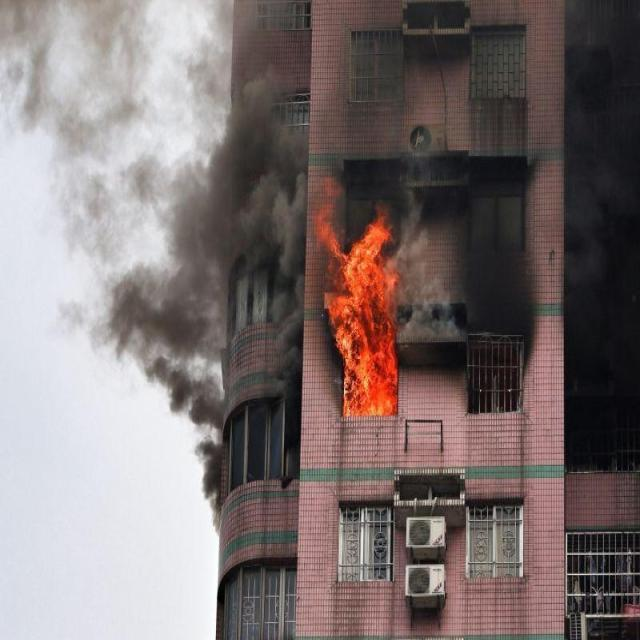Fire: (319, 231, 399, 417)
Smoke: (74, 0, 222, 501), (222, 77, 304, 341)
